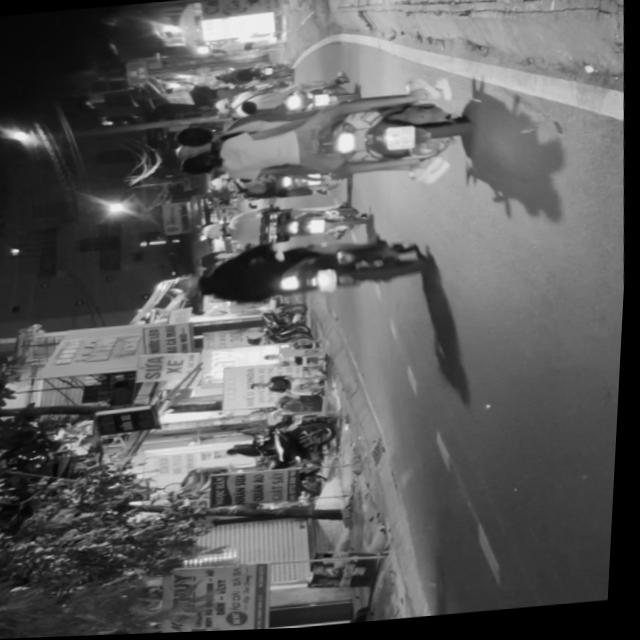helmet: (174, 275, 208, 296), (201, 226, 231, 243)
licenseplate: (167, 86, 476, 206), (171, 235, 435, 315), (198, 200, 374, 256)
motorcyclist: (177, 153, 224, 180), (174, 126, 223, 151)
nohelmet: (384, 129, 416, 156), (319, 271, 339, 296), (309, 222, 327, 238)
